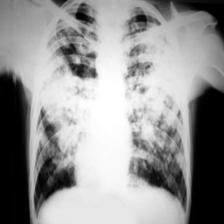tuberculosis: (24, 0, 190, 224)
